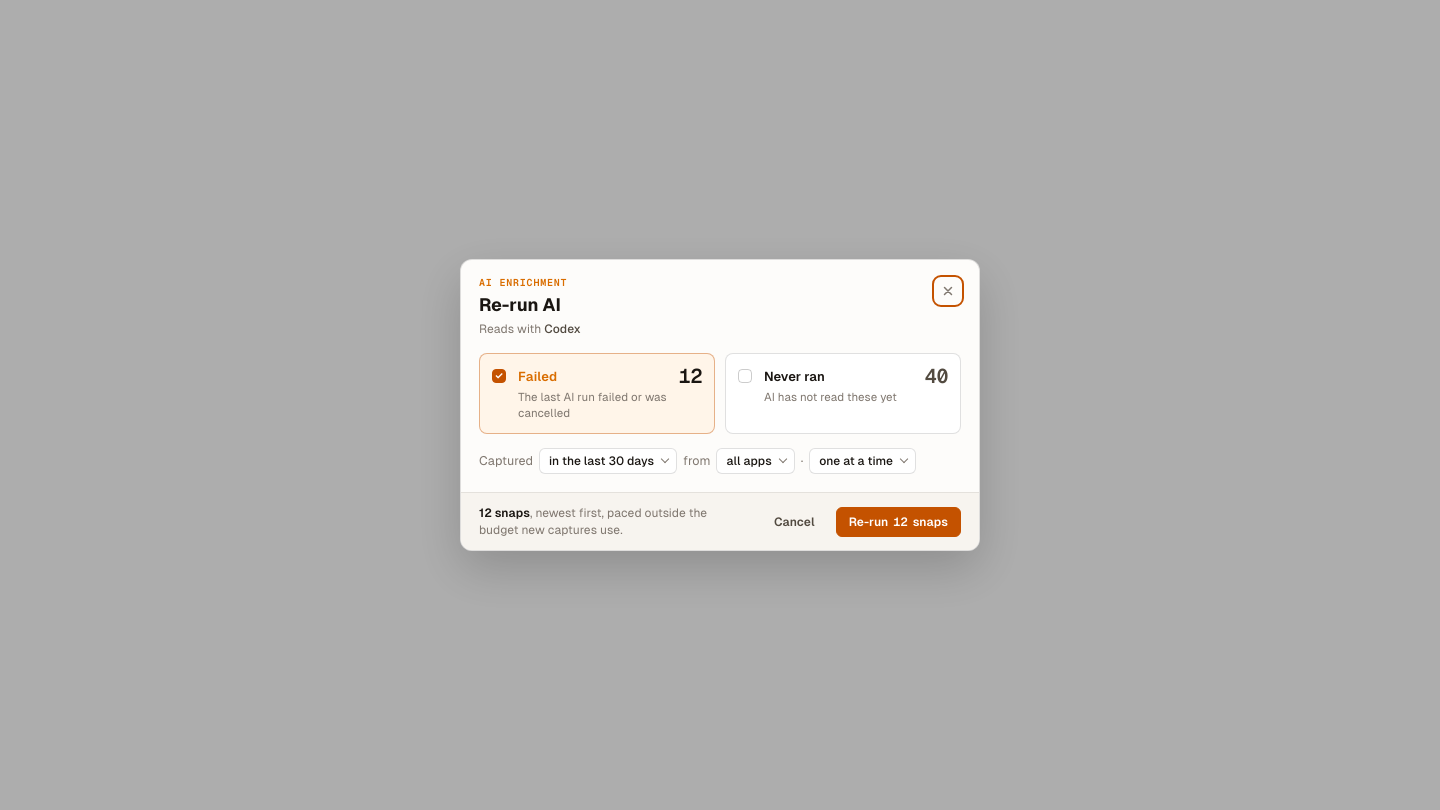
it: EnrichmentRepairDialog — set up › the window popover counts each preset, and picking one closes it
Click the button "in the last 30 days" at (608, 462), box [539,448,677,474]
Wait 200 ms
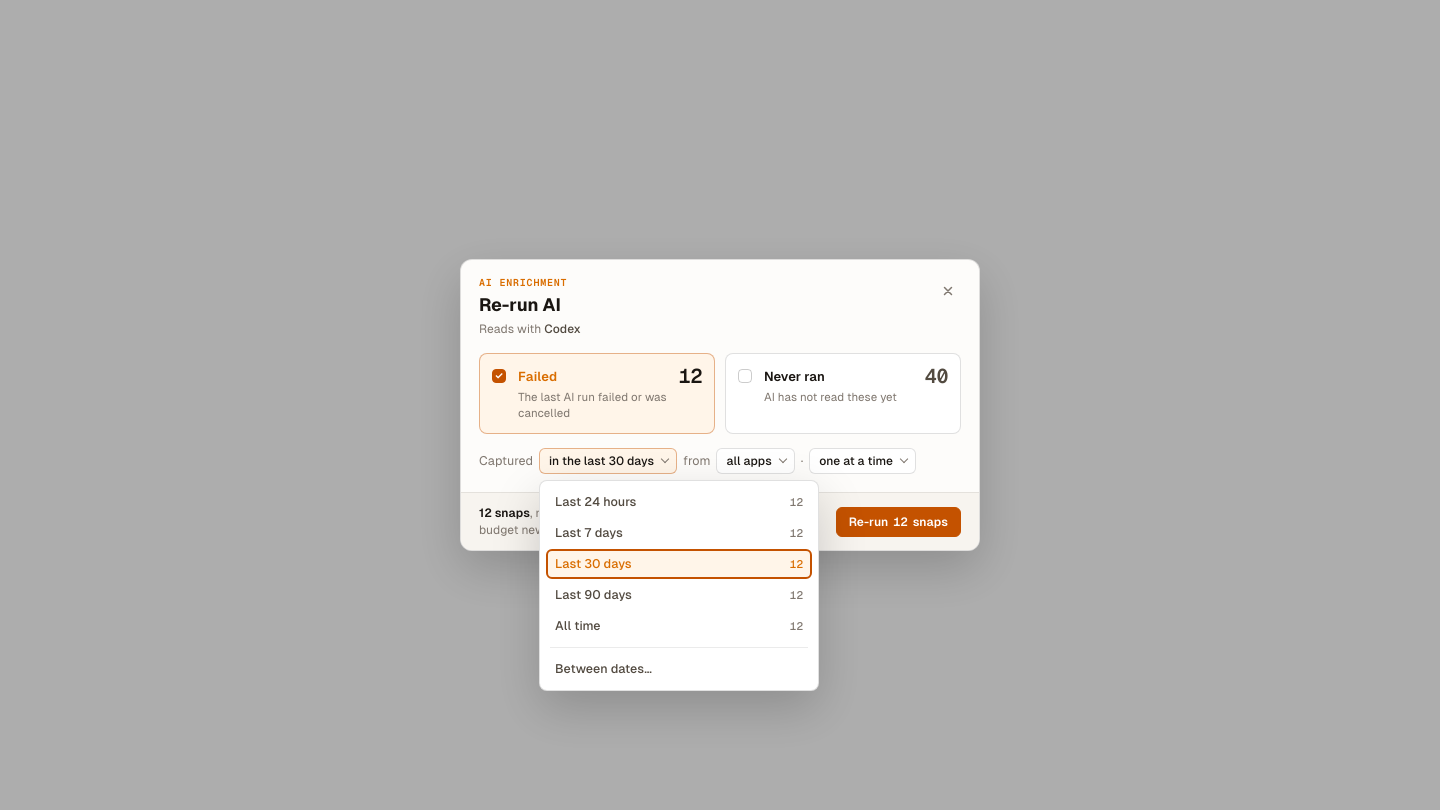
Expected: the dialog shows "12", [790,495,803,509]
Click the radio button labelled "Last 24 hours 12" at (596, 502), box [555,494,803,509]
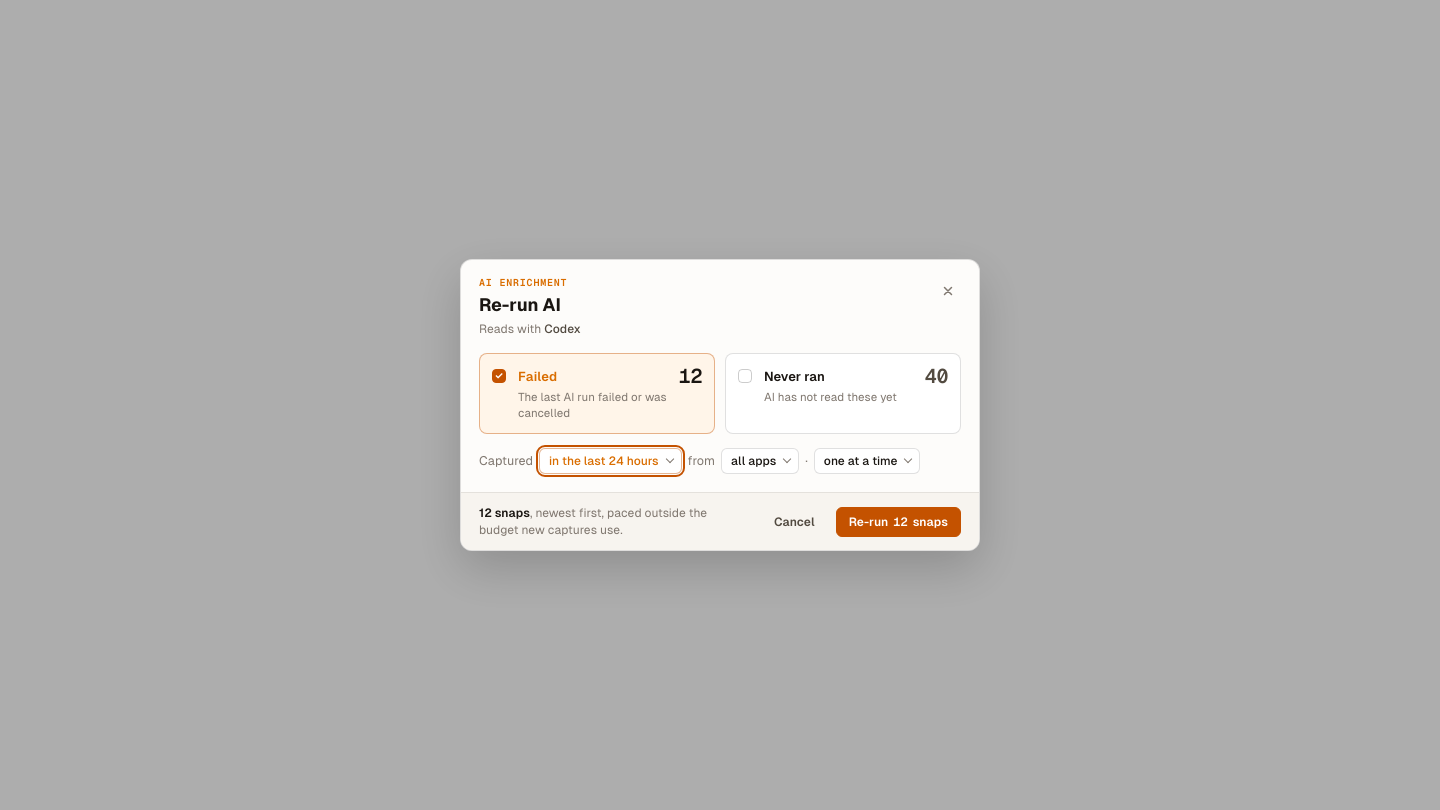
Expected: the dialog is gone
Expected: the button "in the last 24 hours" is shown, [539,448,682,474]
